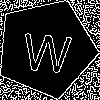W: (21, 23, 74, 74)
